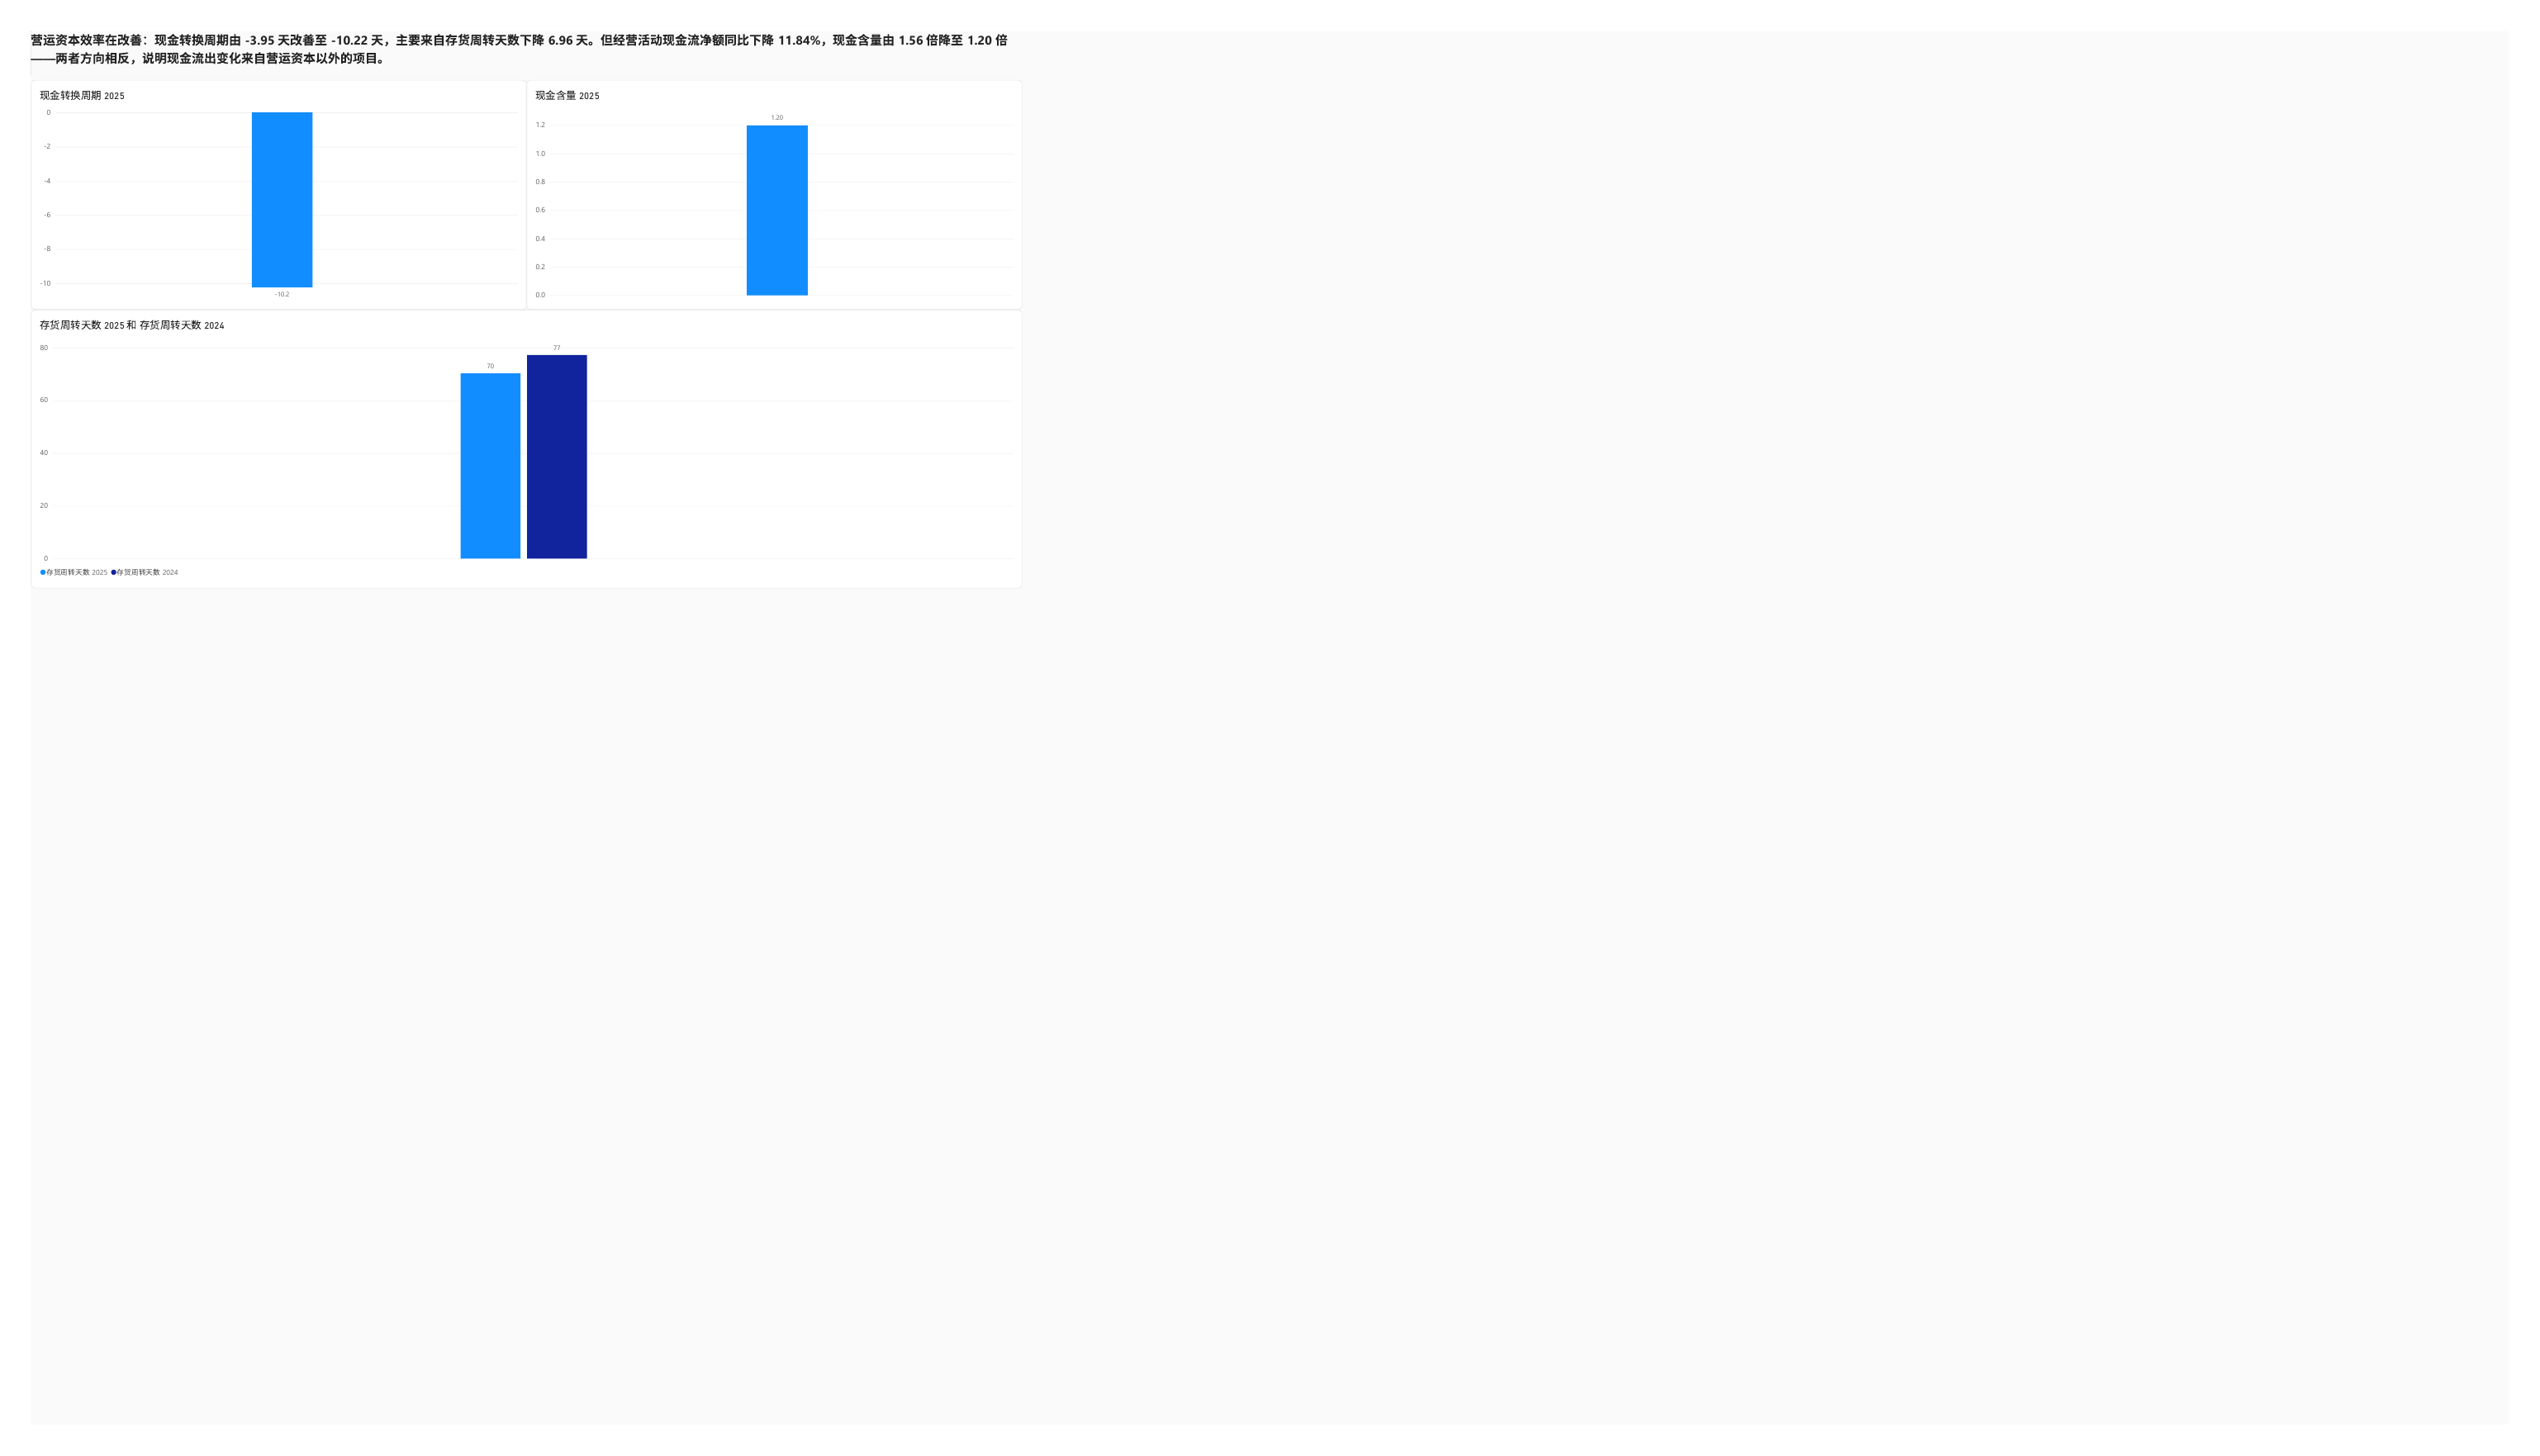

What the dashboard file says about the page in this screenshot:
{"tool":"powerbi","page":{"name":"异常清单","canvas":[1920,1080],"ordinal":3},"visuals":[{"type":"clusteredColumnChart","fields":{"Y":["年度透视.现金转换周期 2025"]},"box":[0,95,960,445],"z":0},{"type":"clusteredColumnChart","fields":{"Y":["年度透视.现金含量 2025"]},"box":[960,95,960,445],"z":1000},{"type":"clusteredColumnChart","fields":{"Y":["年度透视.存货周转天数 2025","年度透视.存货周转天数 2024"]},"box":[0,540,1920,540],"z":2000},{"type":"textbox","box":[0,0,1920,117.5],"z":3000}]}

Visuals, with their boxes on the page's 1920x1080 design canvas (x1, y1, x2, y2). These are canvas units, not pixel positions in the 2540x1456 screenshot, which may show the page scaled, cropped or inside an application window:
clusteredColumnChart - 年度透视.现金转换周期 2025: [x1=0, y1=95, x2=960, y2=540]
clusteredColumnChart - 年度透视.现金含量 2025: [x1=960, y1=95, x2=1920, y2=540]
clusteredColumnChart - 年度透视.存货周转天数 2025 x 年度透视.存货周转天数 2024: [x1=0, y1=540, x2=1920, y2=1080]
textbox: [x1=0, y1=0, x2=1920, y2=118]
